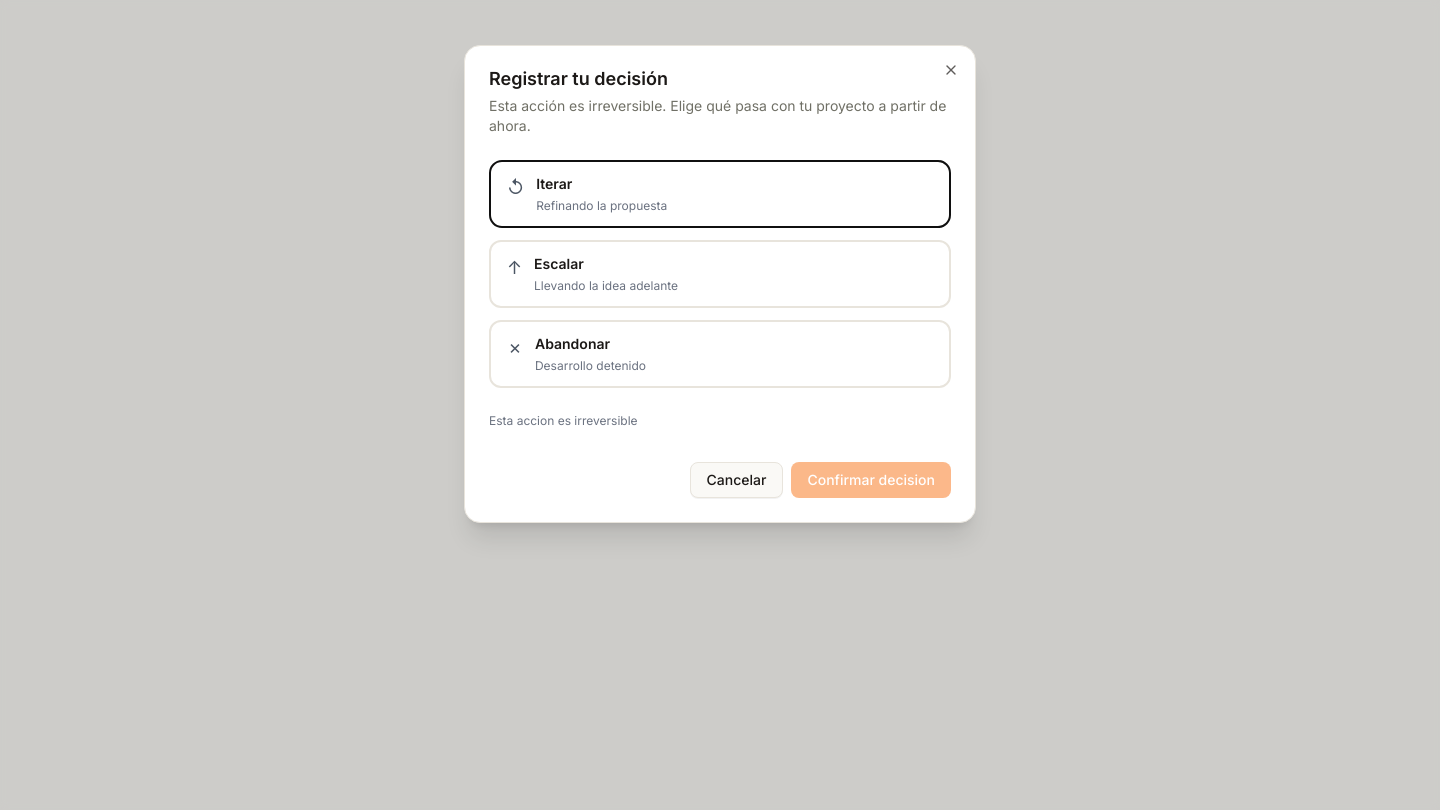
Test: DecisionDialog — selección de decisión › se puede seleccionar la opción "Escalar"
This screenshot has width=1440, height=810.
Click the text "Escalar": (559, 264) [534, 255, 584, 272]
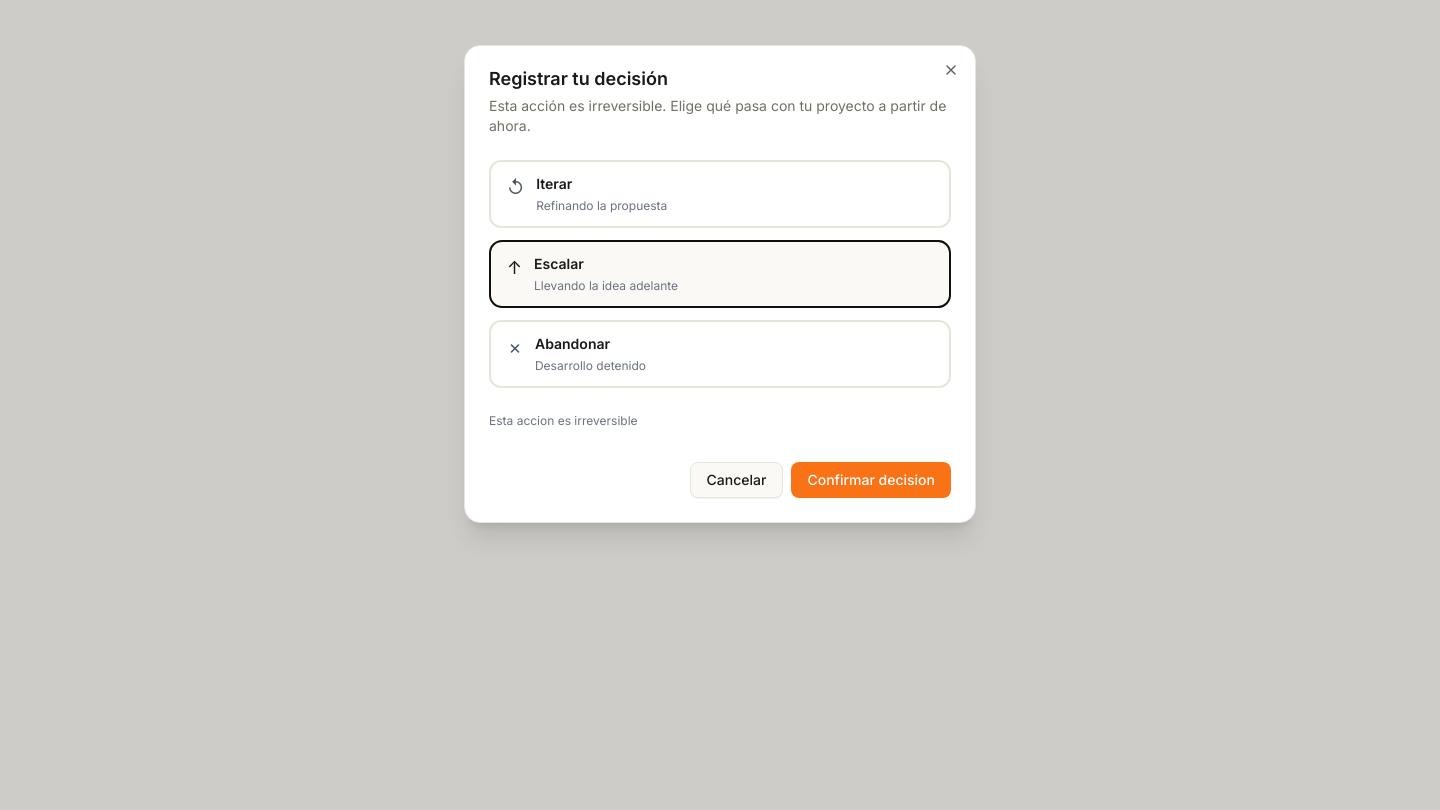
Check: the button "Confirmar decision" is enabled, box [791, 462, 951, 498]
